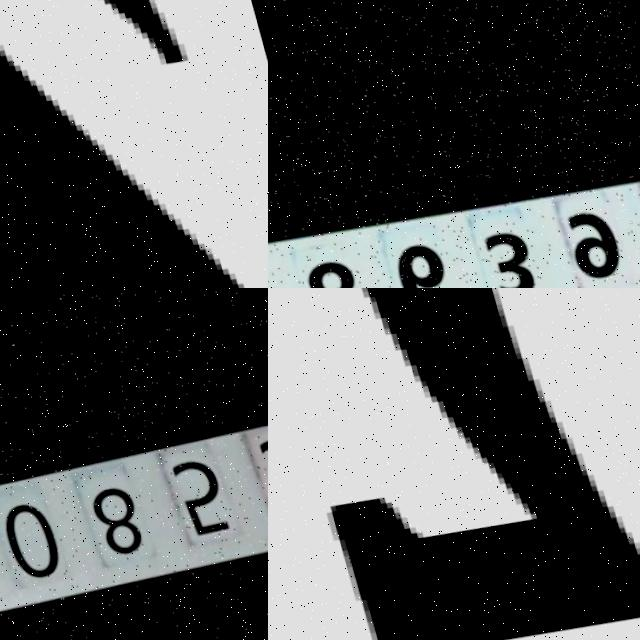0: (0, 482, 70, 597)
3: (456, 204, 553, 288)
5: (152, 438, 238, 549), (241, 415, 268, 519)
6: (362, 213, 471, 288)
7: (268, 288, 640, 640)
8: (72, 468, 152, 571), (274, 231, 381, 288)
9: (536, 179, 640, 288)
Z: (0, 0, 268, 288)
